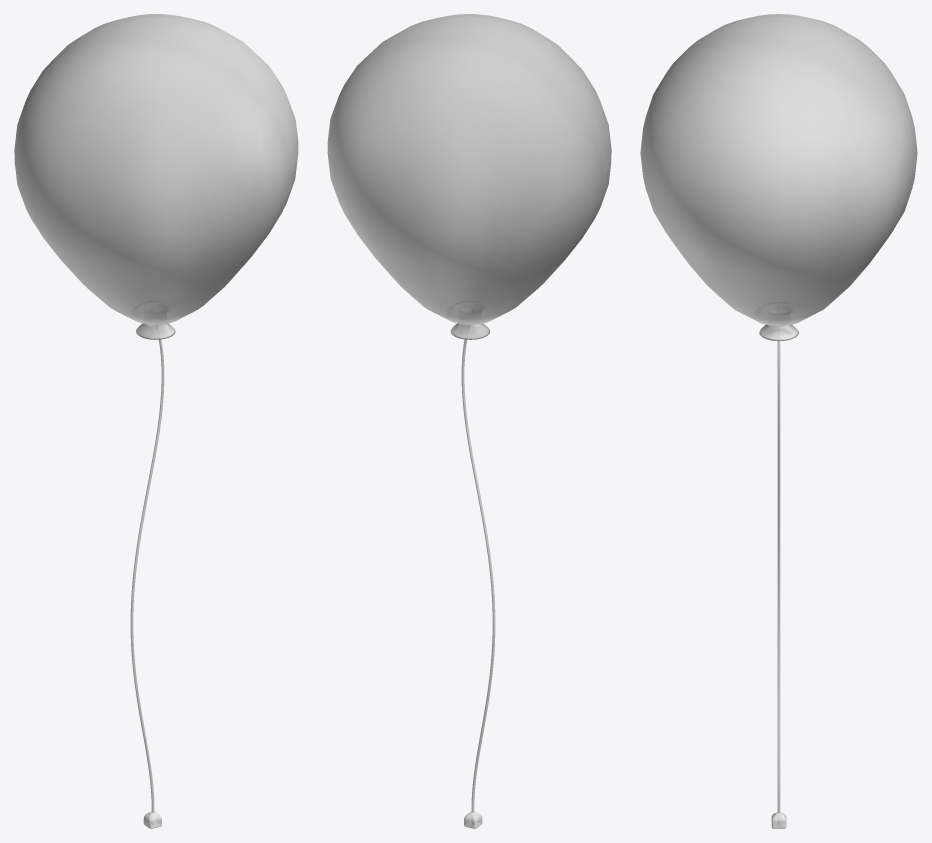
The model's file is WorldItem_Balloon.fbx.
The picture shows the model from 3 angles, left to right: view 1: azimuth 30°, elevation 25°; view 2: azimuth 150°, elevation 25°; view 3: azimuth 270°, elevation 25°; orthographic projection.
Parts seen in each view (by area): view 1: Blue Balloon; view 2: Blue Balloon; view 3: Blue Balloon.
Part boxes in pixels (x1,y1,x2,y2): Blue Balloon: [14, 14, 298, 828]; Blue Balloon: [327, 14, 611, 828]; Blue Balloon: [640, 14, 917, 828].
Size of the model in its own units: 0.2978 by 0.9031 by 0.2835.
